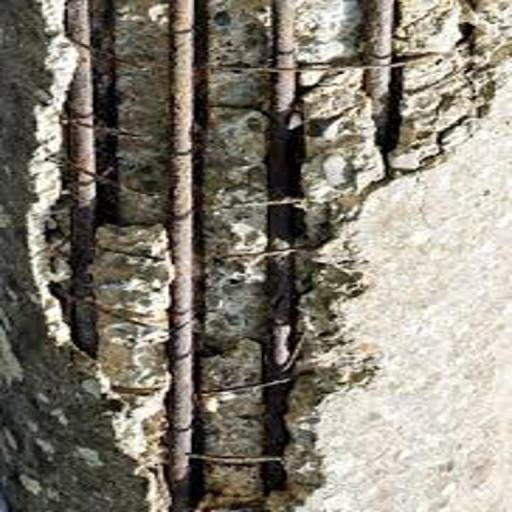spalling: (25, 3, 512, 512)
